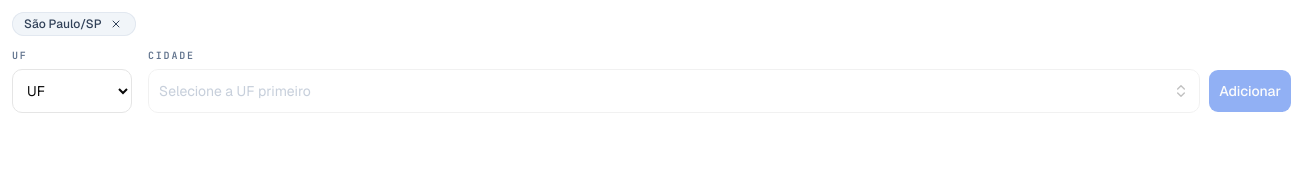
Test case: LocalidadeMultiPicker › removes a chip when its X button is clicked
Click the button named "Remover São Paulo/SP": click(116, 24) x1=108 y1=16 x2=124 y2=32
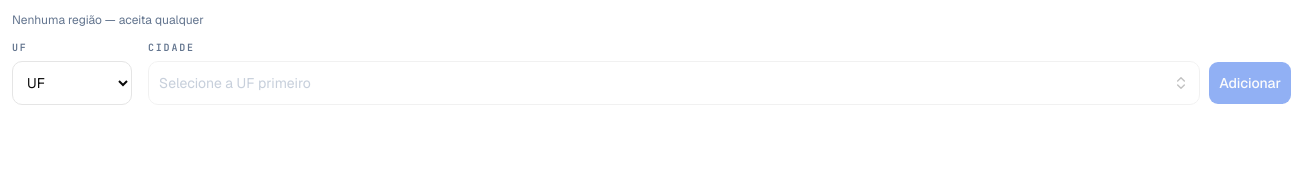
Now the text "São Paulo/SP" is gone
Now the text "Nenhuma região — aceita qualquer" is shown, box x1=12 y1=12 x2=204 y2=28
